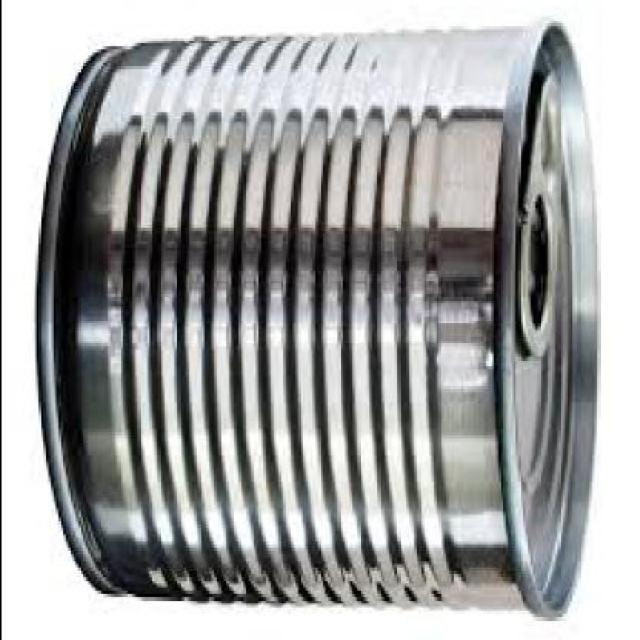METAL: (37, 23, 600, 623)
